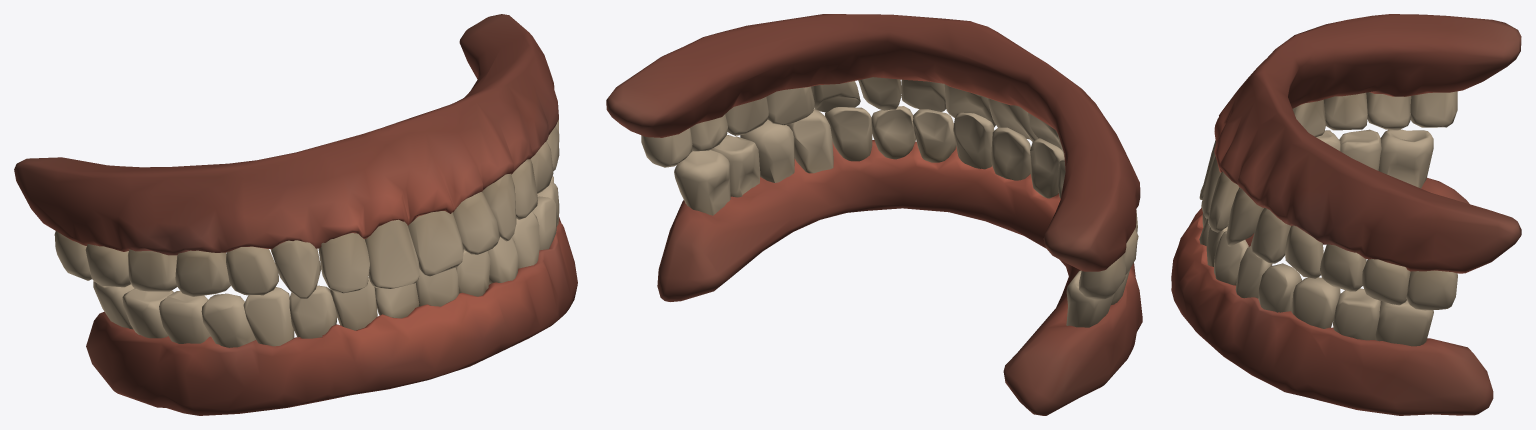
3 renders of one model, left to right at view 1: azimuth 30°, elevation 25°; view 2: azimuth 150°, elevation 25°; view 3: azimuth 270°, elevation 25°, orthographic. The views are drawn at different scales.
Parts seen in each view (by area): view 1: Teeth; view 2: Teeth; view 3: Teeth.
Part boxes in pixels (<box>): Teeth: <box>14,14,577,415</box>; Teeth: <box>606,14,1142,415</box>; Teeth: <box>1171,14,1521,415</box>.
Size of the model in its own units: 0.138 by 0.0733 by 0.0862.
